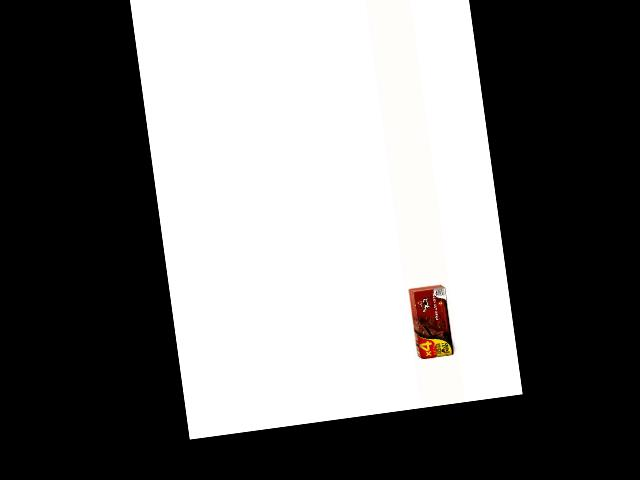chocolate: (409, 285, 456, 360)
